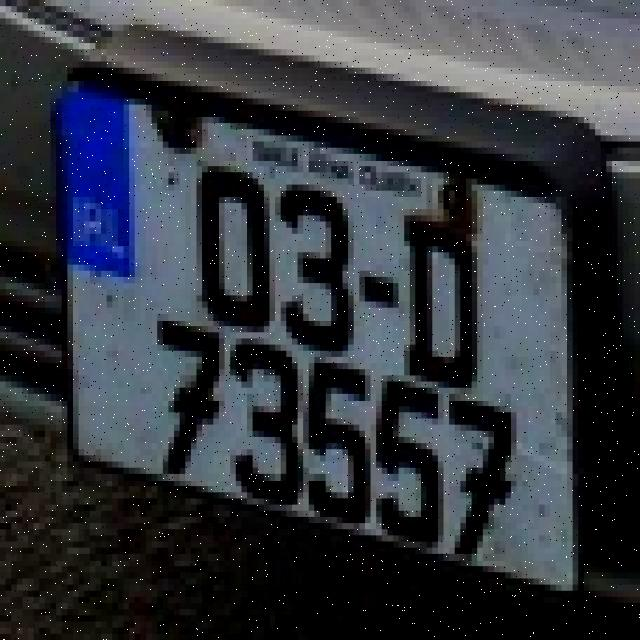licenseplate: (48, 47, 596, 604)
